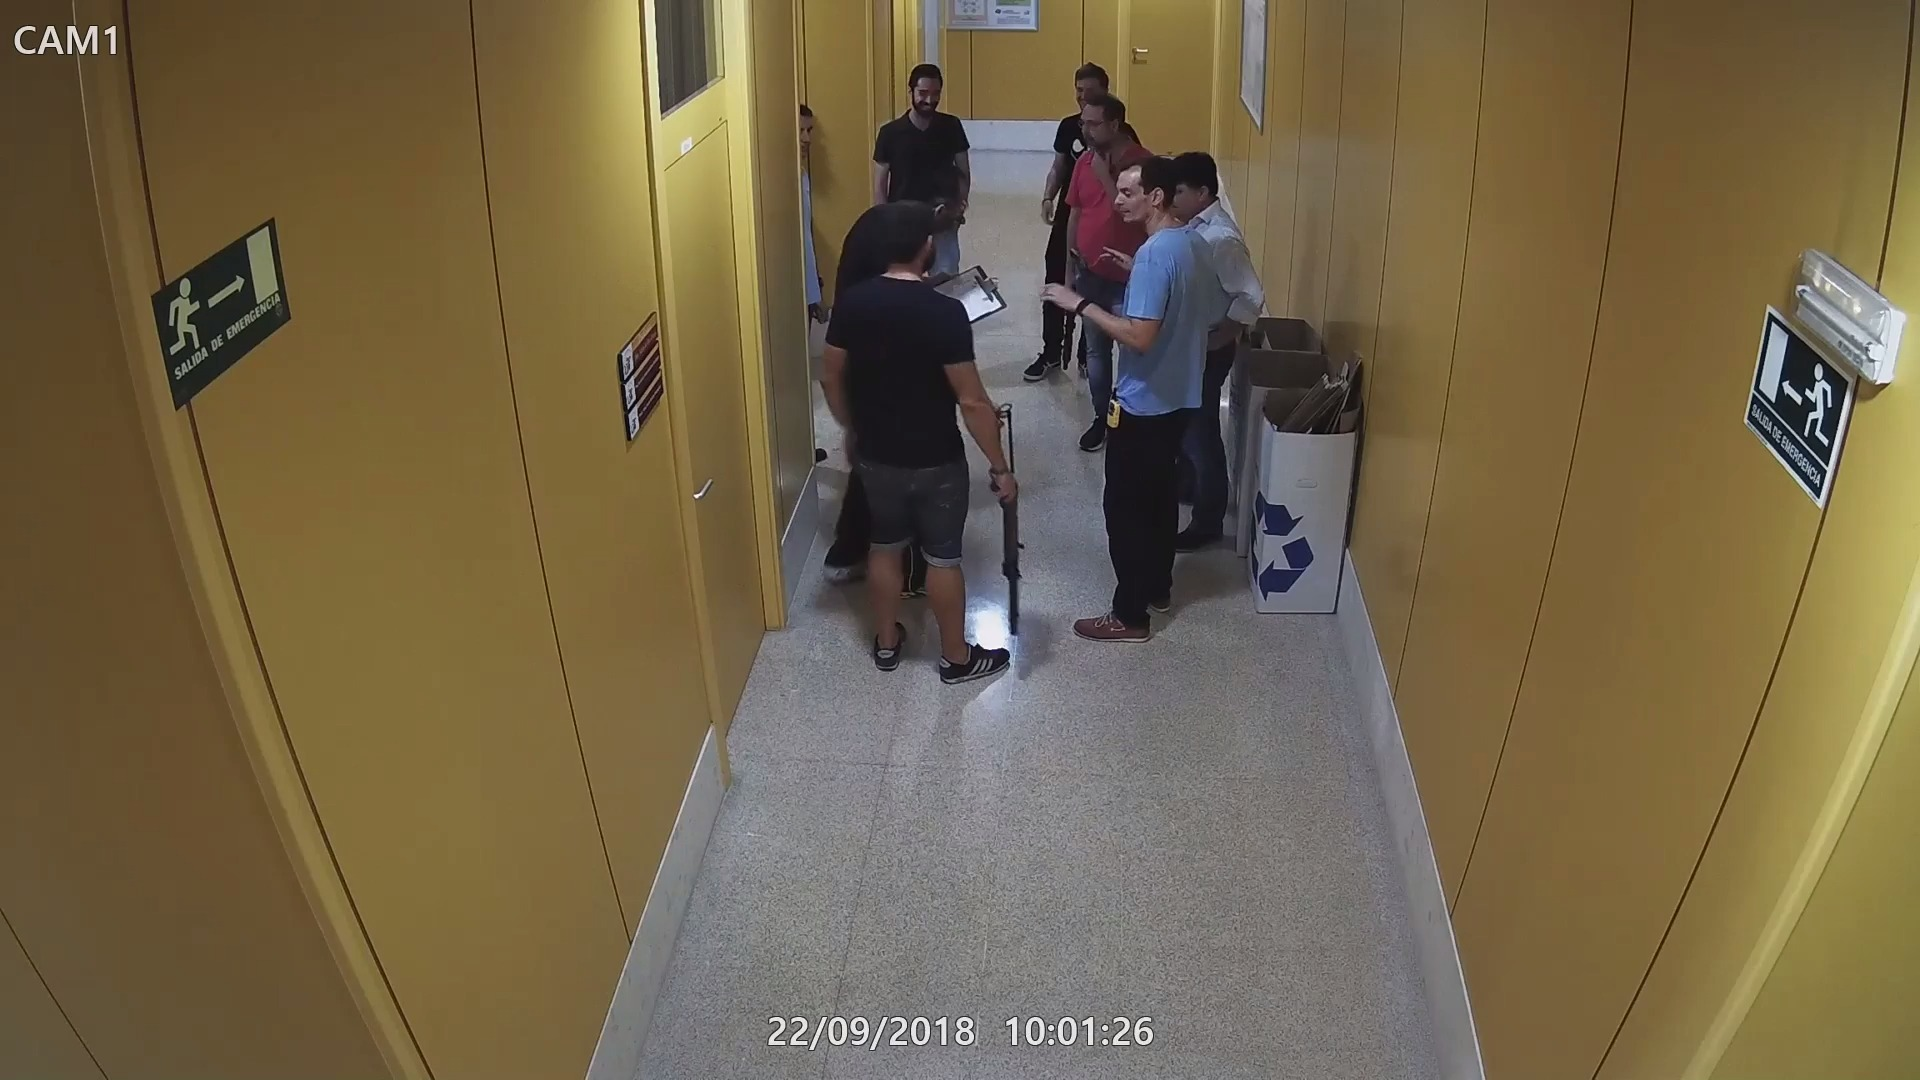Handgun: (1064, 239, 1091, 297)
Short_rifle: (994, 400, 1026, 637), (1055, 272, 1081, 375)
